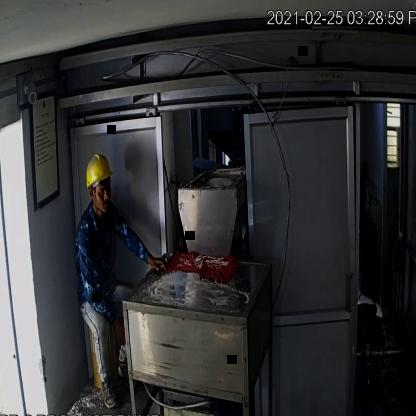helmet: (82, 151, 118, 203)
